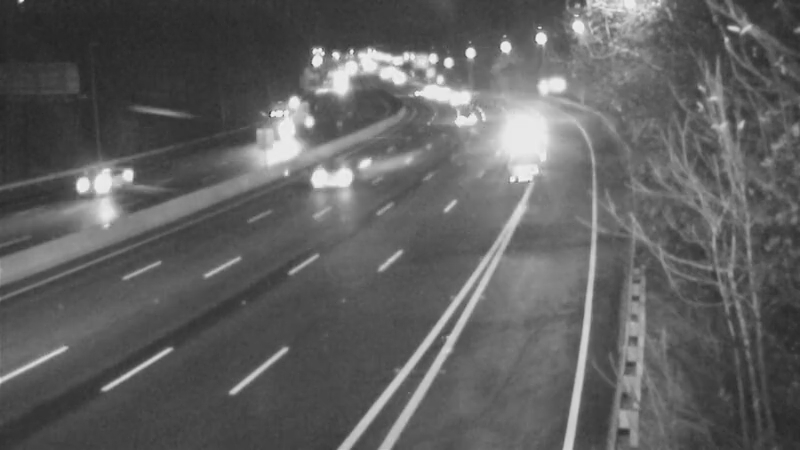vehicle: (292, 133, 372, 213), (55, 147, 135, 227), (391, 66, 441, 116), (430, 73, 480, 123), (442, 92, 492, 142), (499, 112, 549, 162), (263, 104, 313, 154)
